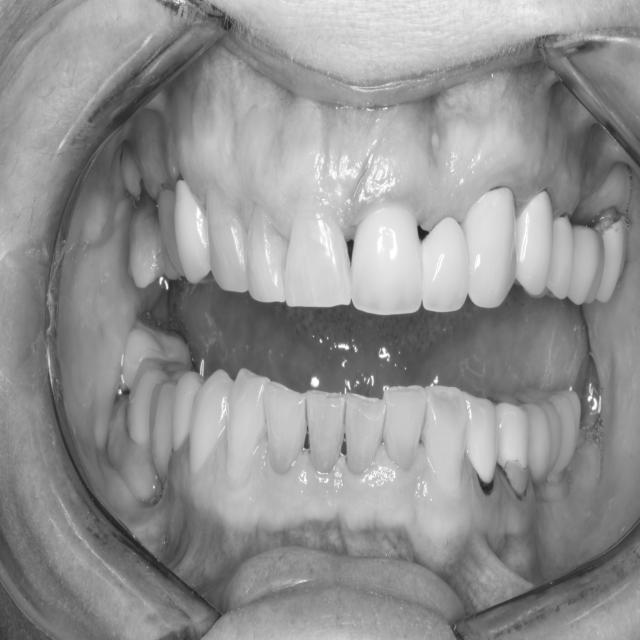tooth: (347, 200, 424, 320), (457, 181, 524, 314), (282, 201, 354, 314), (414, 196, 473, 333), (123, 350, 199, 453), (519, 374, 585, 490), (500, 379, 564, 490), (116, 310, 197, 396), (145, 376, 201, 498), (416, 379, 473, 498), (219, 358, 270, 491), (184, 365, 241, 478), (199, 184, 255, 298), (113, 182, 168, 296), (512, 172, 557, 305), (451, 376, 503, 491), (260, 364, 310, 479), (169, 170, 217, 289), (241, 194, 288, 312), (302, 377, 348, 488), (487, 390, 535, 495), (146, 181, 195, 283), (378, 377, 431, 471), (589, 200, 632, 312), (344, 381, 387, 479), (568, 205, 607, 312), (167, 365, 209, 459), (546, 207, 578, 308)
